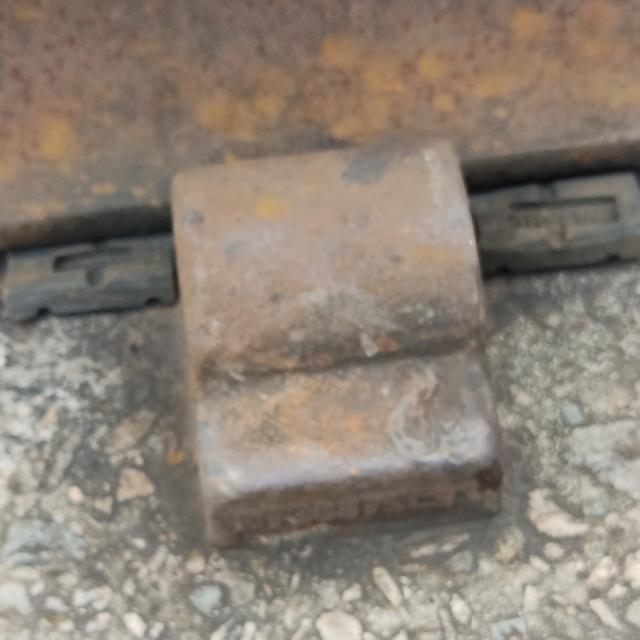track_bolt_missing: (158, 128, 496, 386)
